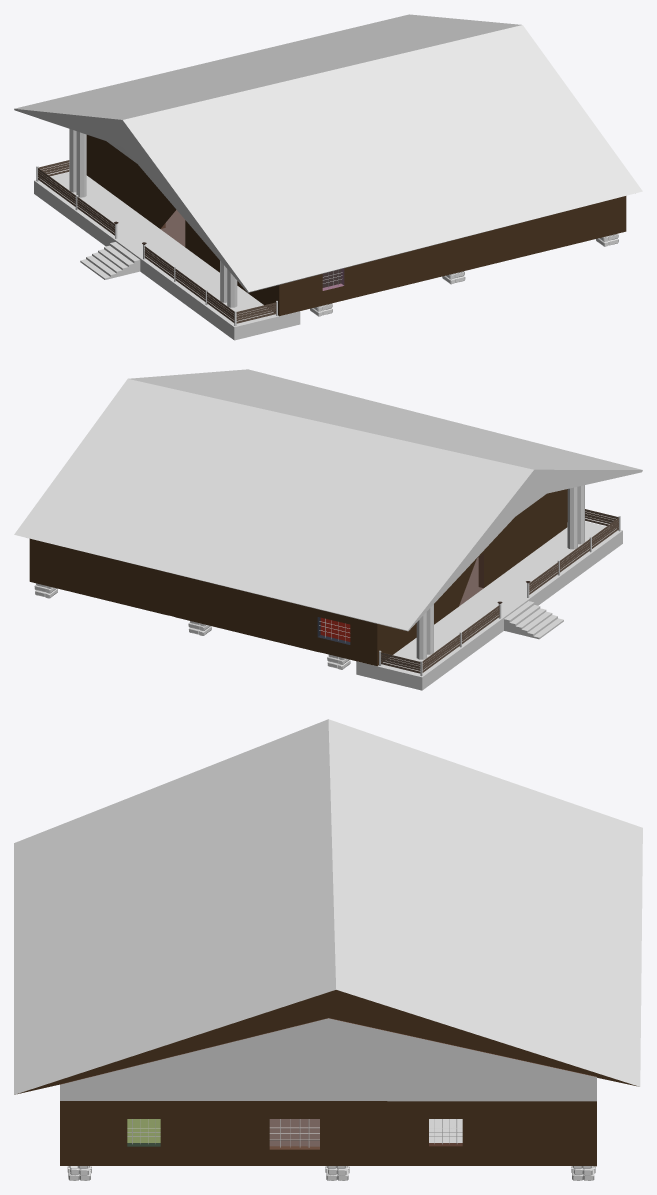
Rendered from properHouse.fbx.
The picture shows the model from 3 angles, top to bottom: view 1: azimuth 30°, elevation 25°; view 2: azimuth 150°, elevation 25°; view 3: azimuth 270°, elevation 25°; orthographic projection. The views are drawn at different scales.
Parts seen in each view (by area): view 1: House, Fence, Pillars, Stairs, Blocks; view 2: House, Fence, Pillars, Stairs, Blocks; view 3: House, Blocks, WindowGrill1.005.
Boxes of the visible parts, <box> form: House: <box>14,14,642,340</box>; Fence: <box>38,160,276,323</box>; Pillars: <box>69,129,237,307</box>; Stairs: <box>80,242,140,279</box>; Blocks: <box>310,233,618,316</box>; House: <box>14,369,642,690</box>; Fence: <box>381,509,618,673</box>; Pillars: <box>416,485,584,659</box>; Stairs: <box>504,601,563,639</box>; Blocks: <box>34,583,350,669</box>; House: <box>14,719,642,1166</box>; Blocks: <box>67,1166,595,1180</box>; WindowGrill1.005: <box>127,1119,462,1147</box>.
Bounding box in the file's own units: 3694 × 1239 × 3516.
